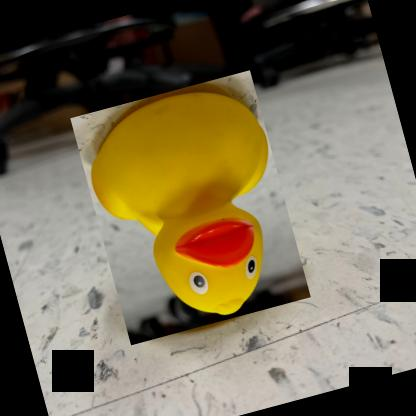duck: (69, 70, 310, 344)
